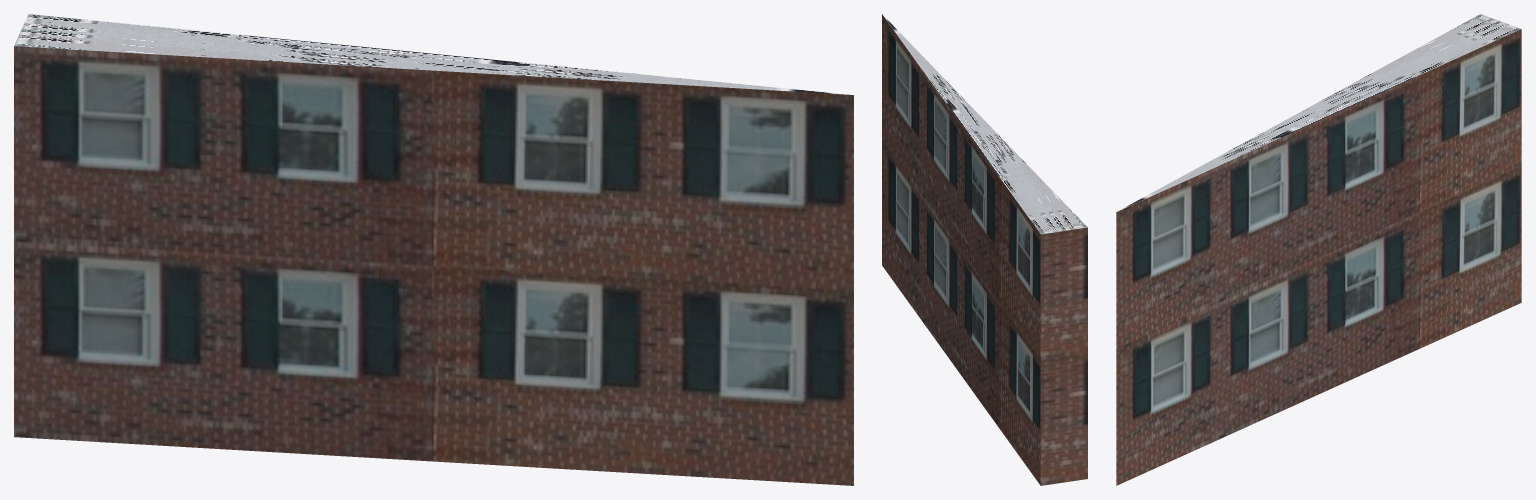
Rendered from ResTex__1397.fbx.
3 views of the same model, side by side, from view 1: azimuth 30°, elevation 25°; view 2: azimuth 150°, elevation 25°; view 3: azimuth 270°, elevation 25° (orthographic). The views are drawn at different scales.
Visible parts, largest first — view 1: CityEngineMaterial_14_m, CityEngineMaterial_8_m; view 2: CityEngineMaterial_14_m, CityEngineMaterial_8_m; view 3: CityEngineMaterial_14_m, CityEngineMaterial_8_m.
Boxes of the visible parts, bbox=[...] form: CityEngineMaterial_14_m: bbox=[14, 46, 853, 485]; CityEngineMaterial_8_m: bbox=[14, 14, 850, 94]; CityEngineMaterial_14_m: bbox=[882, 14, 1087, 485]; CityEngineMaterial_8_m: bbox=[882, 14, 1087, 234]; CityEngineMaterial_14_m: bbox=[1116, 29, 1521, 485]; CityEngineMaterial_8_m: bbox=[1119, 14, 1520, 210].
Bounding box in the file's own units: 9.32 × 6 × 8.05.
Materials: 2 (2 with a texture image).
